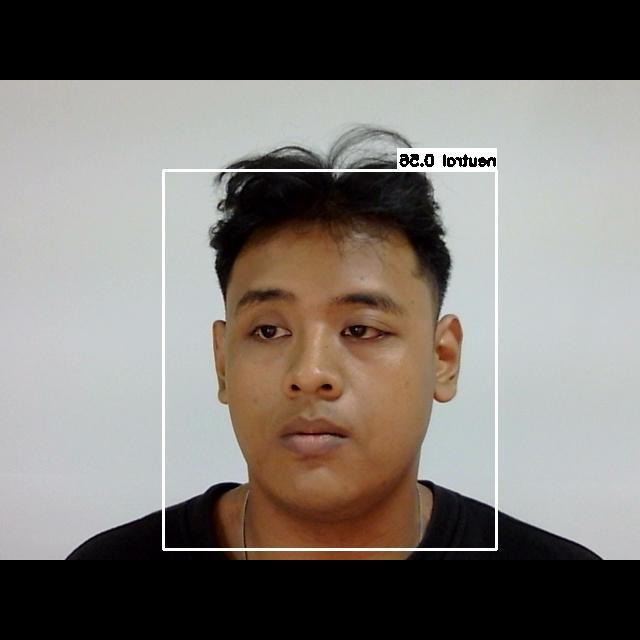Natural: (225, 280, 421, 488)
